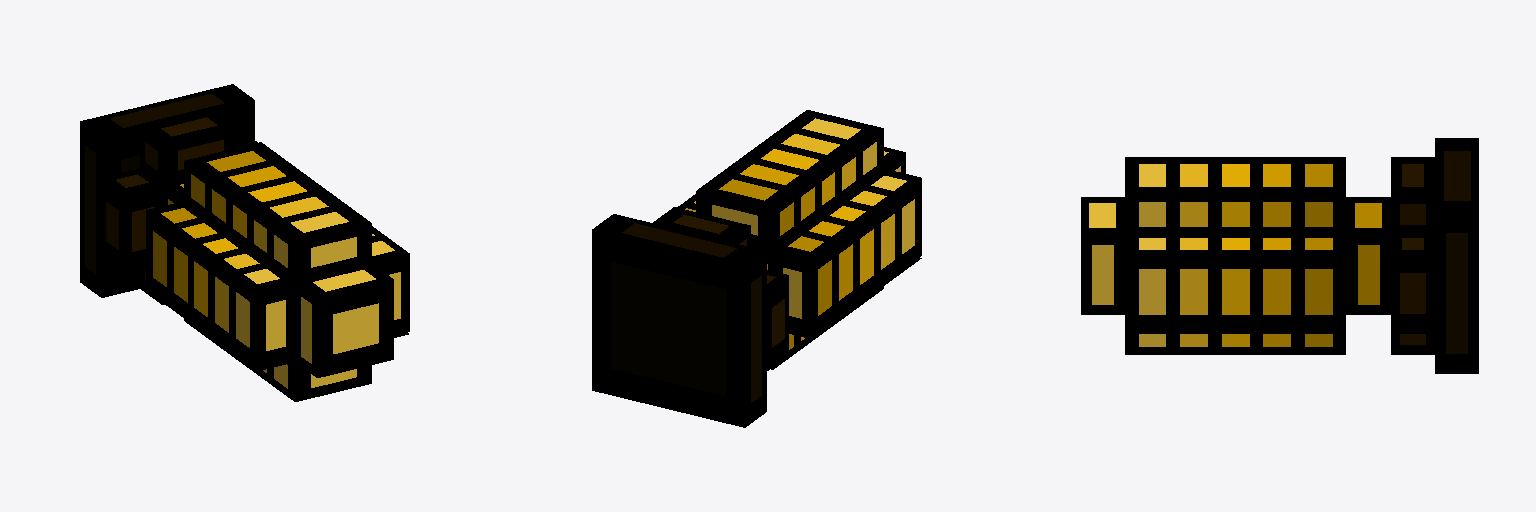
3 renders of one model, left to right at view 1: azimuth 30°, elevation 25°; view 2: azimuth 150°, elevation 25°; view 3: azimuth 270°, elevation 25°, orthographic.
Parts seen in each view (by area): view 1: cube; view 2: cube; view 3: cube.
Boxes of the visible parts, x1=… form: cube: x1=80, y1=84, x2=409, y2=401; cube: x1=592, y1=110, x2=921, y2=427; cube: x1=1081, y1=138, x2=1478, y2=373.
Size of the model in its own units: 0.25 by 0.25 by 0.5625.
2 materials, 2 textured.